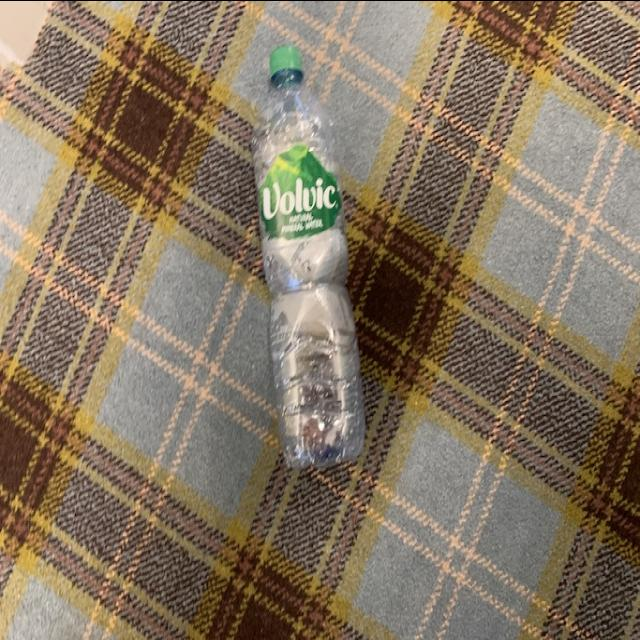PET: (250, 44, 368, 472)
